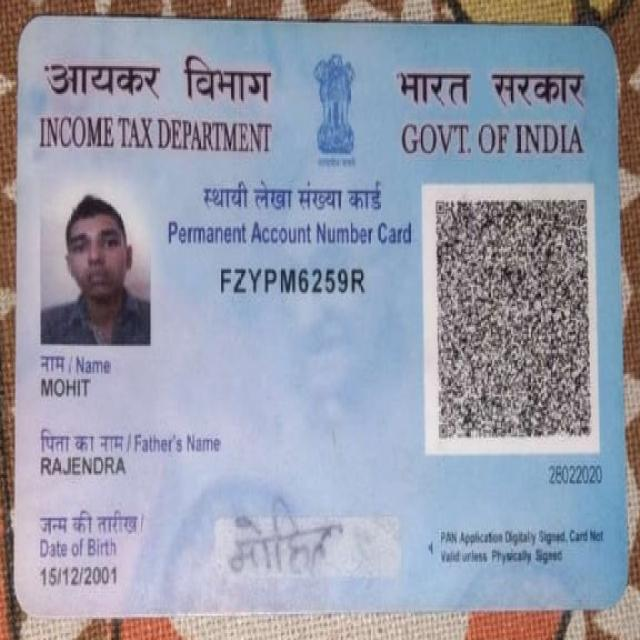pan_card: (23, 32, 620, 611)
